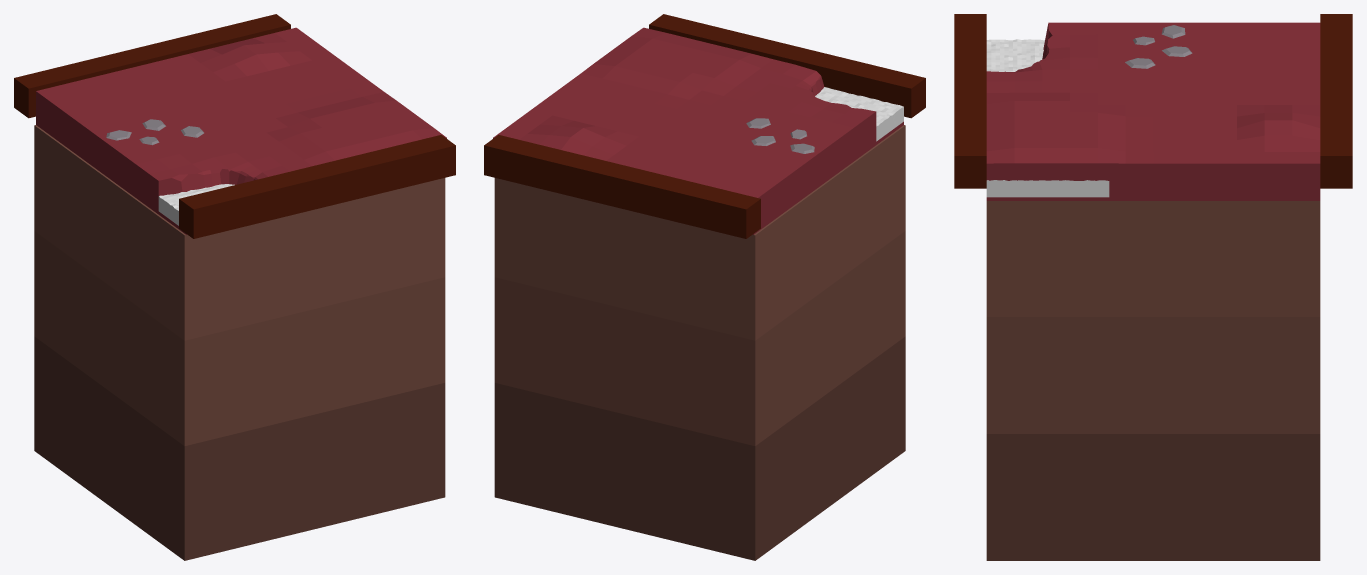
File: Plano7.fbx
3 views of the same model, side by side, from view 1: azimuth 30°, elevation 25°; view 2: azimuth 150°, elevation 25°; view 3: azimuth 270°, elevation 25° (orthographic). The views are drawn at different scales.
Parts seen in each view (by area): view 1: Plane.056, Plane.039, Borda.001, Plane.040; view 2: Plane.056, Plane.039, Borda.001, Plane.040; view 3: Plane.056, Plane.039, Borda.001, Plane.040.
Part boxes in pixels (box(x1,y1,x2,y2)): Plane.056: box(34, 125, 445, 560); Plane.039: box(36, 27, 446, 234); Borda.001: box(14, 14, 455, 238); Plane.040: box(158, 184, 234, 225); Plane.056: box(494, 125, 905, 560); Plane.039: box(493, 27, 903, 234); Borda.001: box(484, 14, 925, 238); Plane.040: box(815, 87, 903, 141); Plane.056: box(986, 201, 1320, 560); Plane.039: box(986, 22, 1320, 200); Borda.001: box(954, 14, 1352, 188); Plane.040: box(986, 39, 1109, 197).
Size of the model in its own units: 823 by 1076 by 955.
